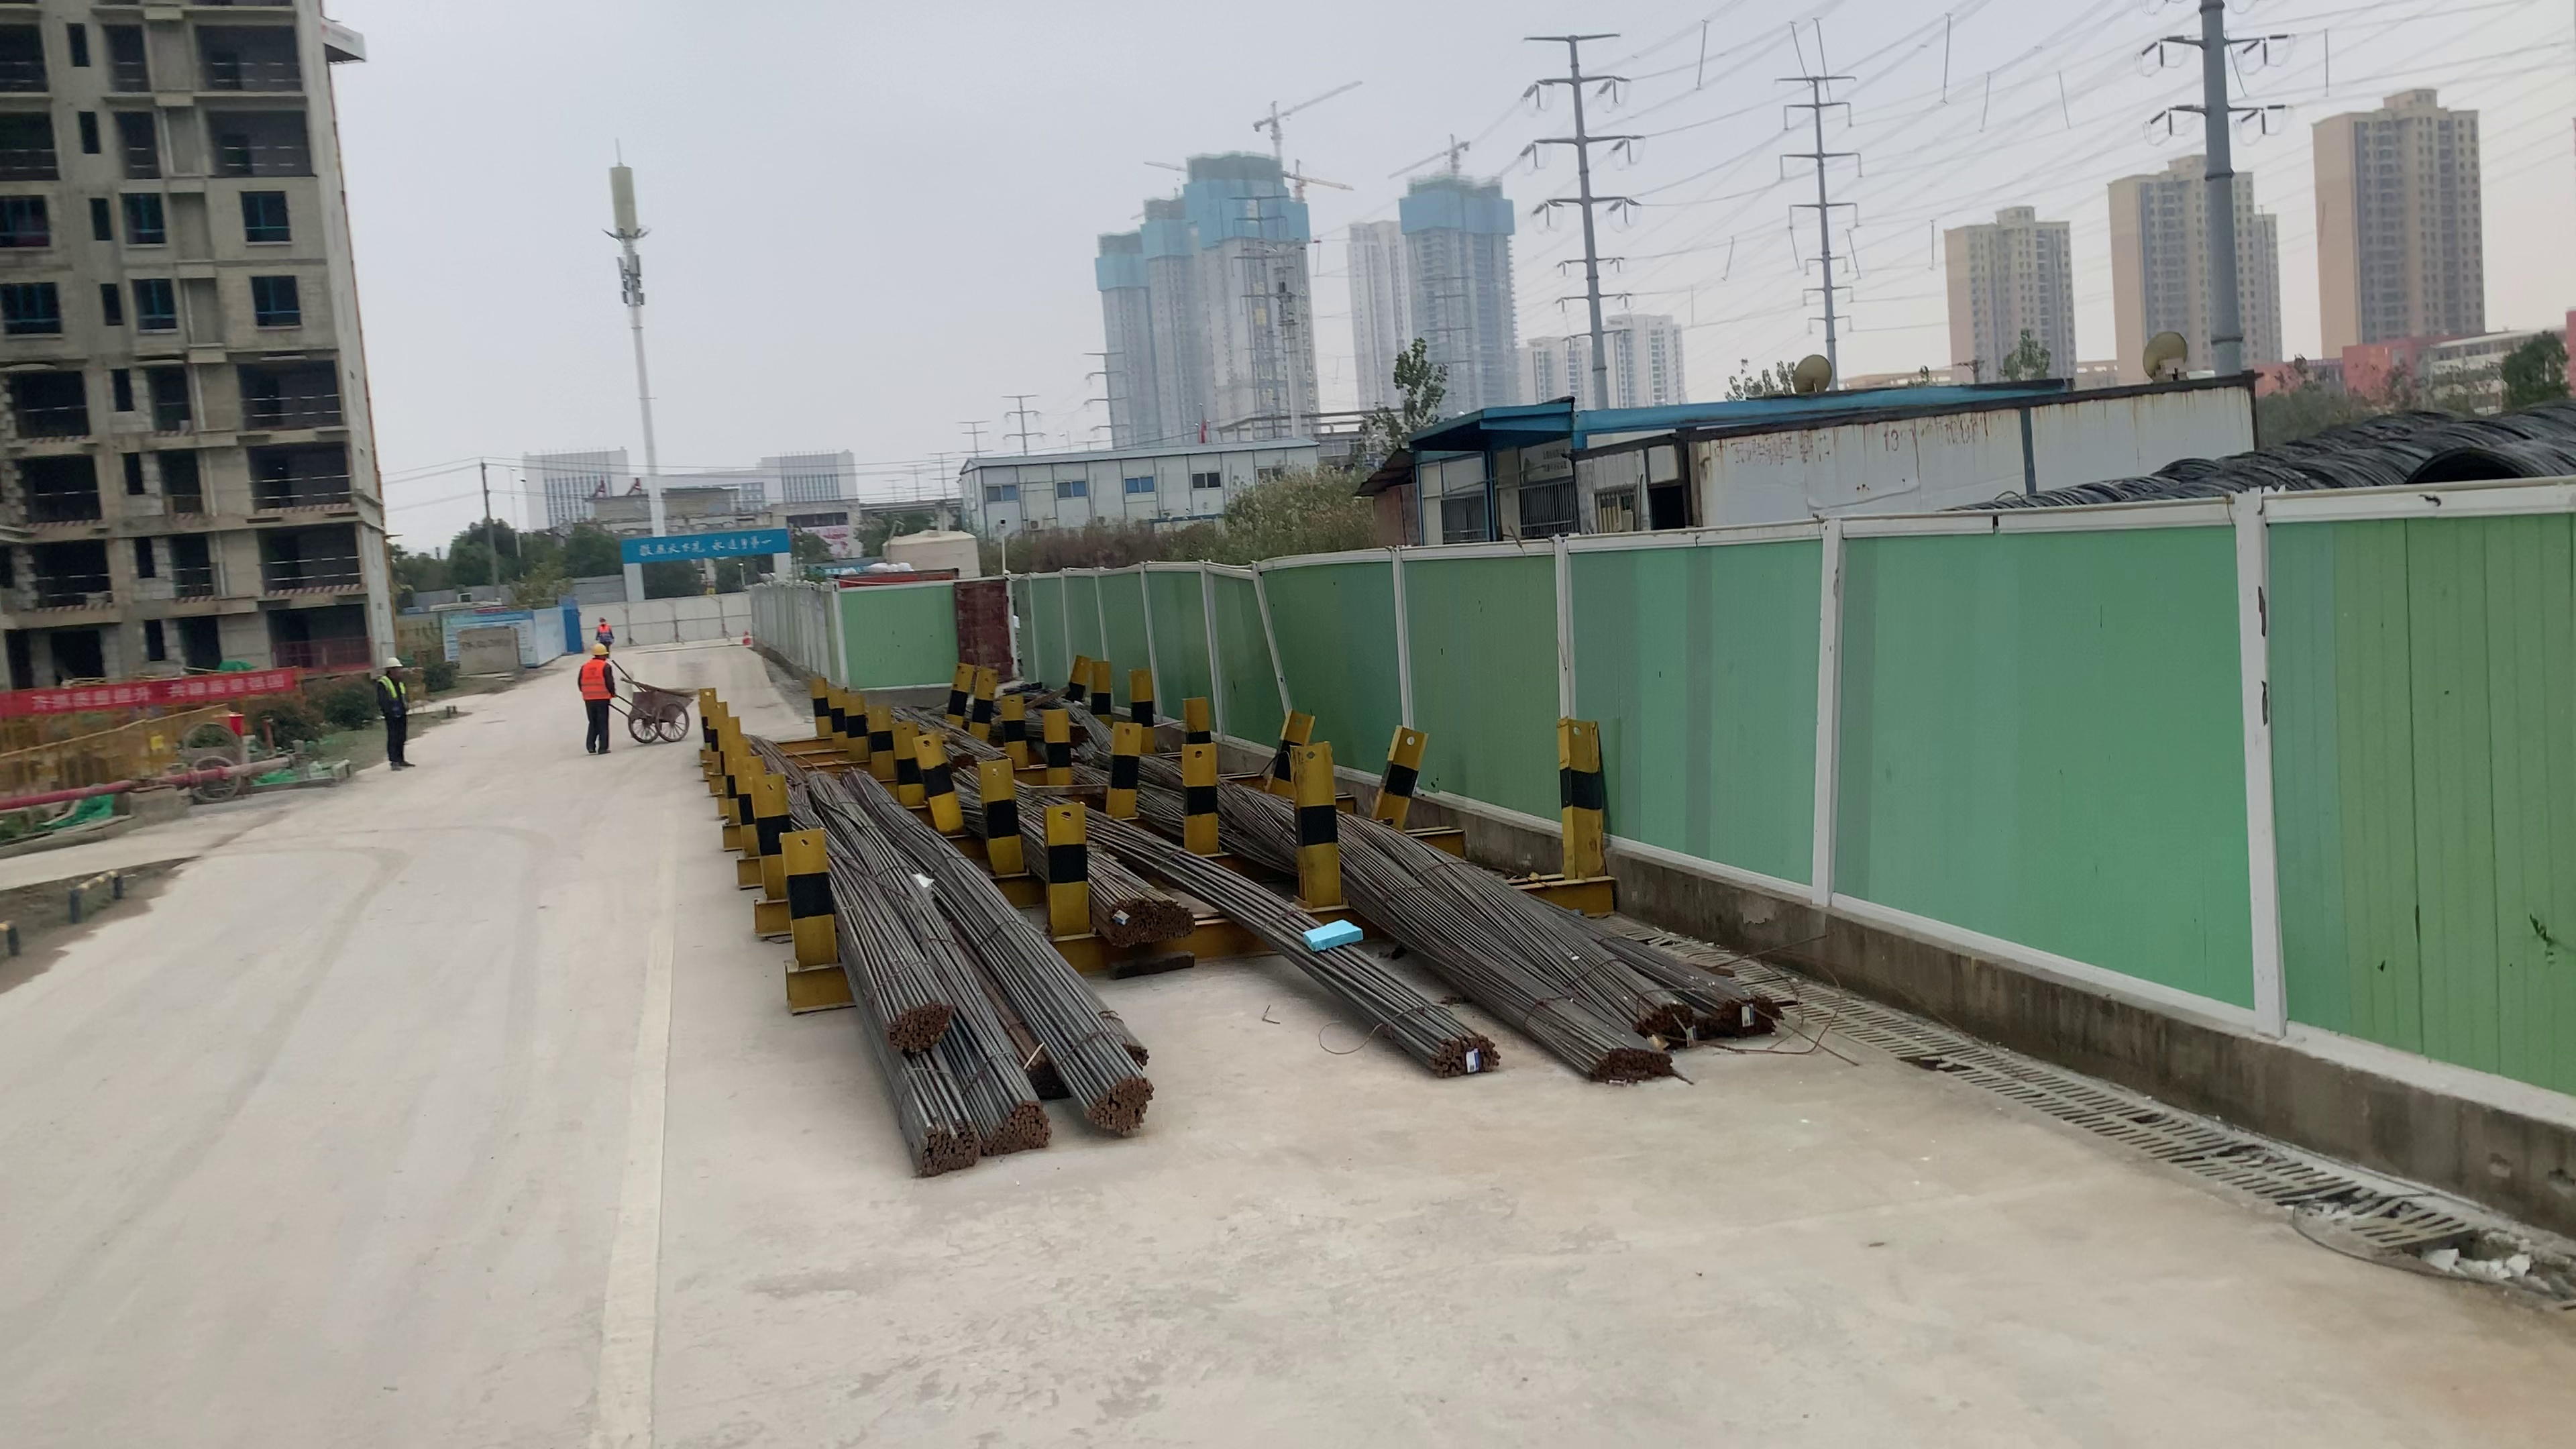rebar: (1573, 1046, 1674, 1085), (911, 1123, 977, 1182), (888, 994, 948, 1054), (1426, 1031, 1499, 1081), (1092, 1077, 1148, 1136), (1716, 993, 1785, 1037), (982, 1108, 1049, 1150), (1629, 1000, 1695, 1039), (1106, 897, 1152, 950), (1030, 1053, 1070, 1093), (1154, 901, 1196, 939), (1122, 1031, 1155, 1070)
